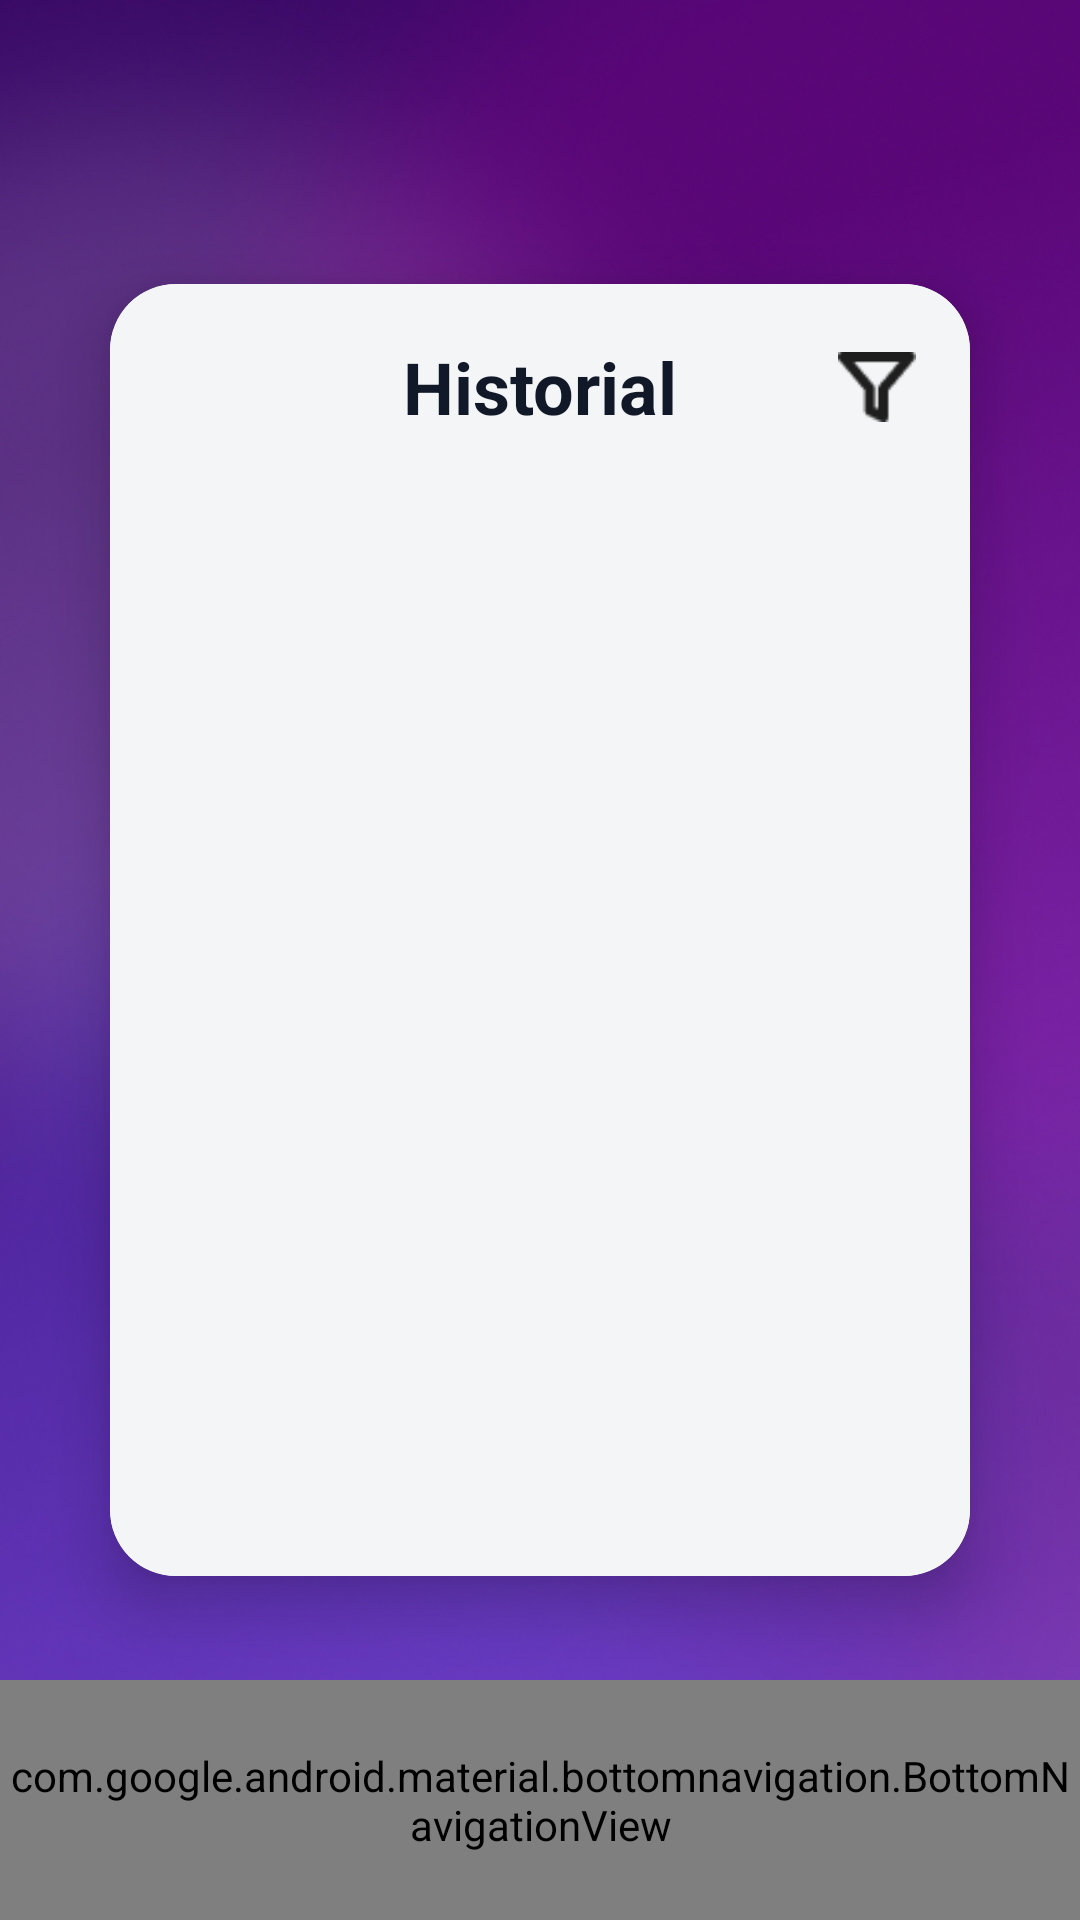

Named icons in this screenshot (1080×1920) and their centers, (x,y):
Filtro: (877,387)
